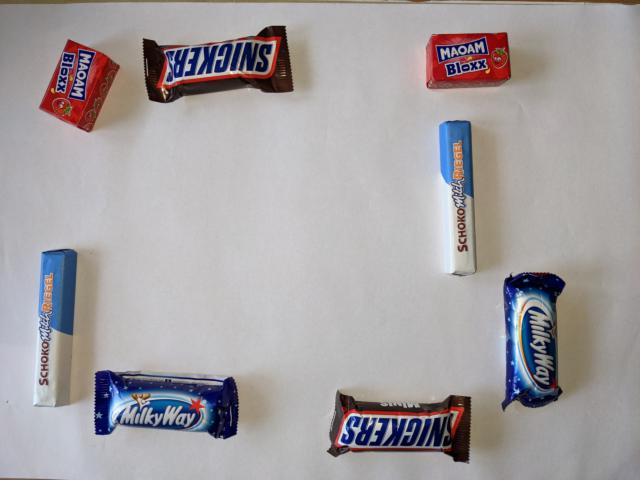MAOAM: (37, 38, 121, 134), (423, 29, 513, 92)
MilkyWay: (92, 368, 241, 442), (498, 270, 568, 415)
Schokoriegel: (28, 247, 80, 411), (434, 118, 482, 280)
Snickers: (139, 23, 296, 105), (323, 387, 476, 468)
